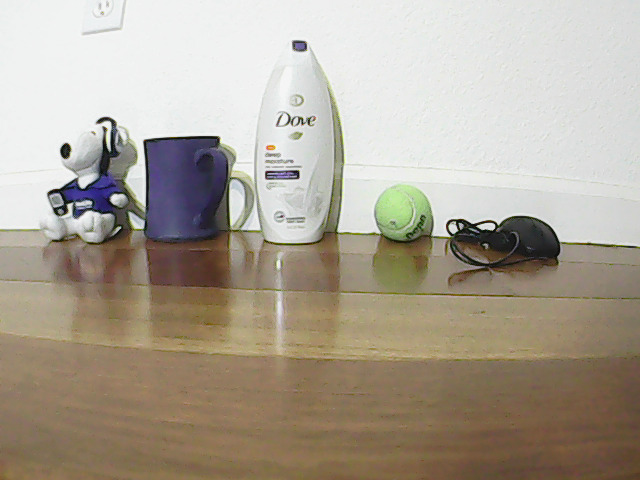ball: (372, 175, 438, 254)
mouse: (494, 204, 572, 261)
mug: (142, 125, 240, 245)
snoopy: (47, 98, 124, 245)
soap: (251, 35, 350, 244)
